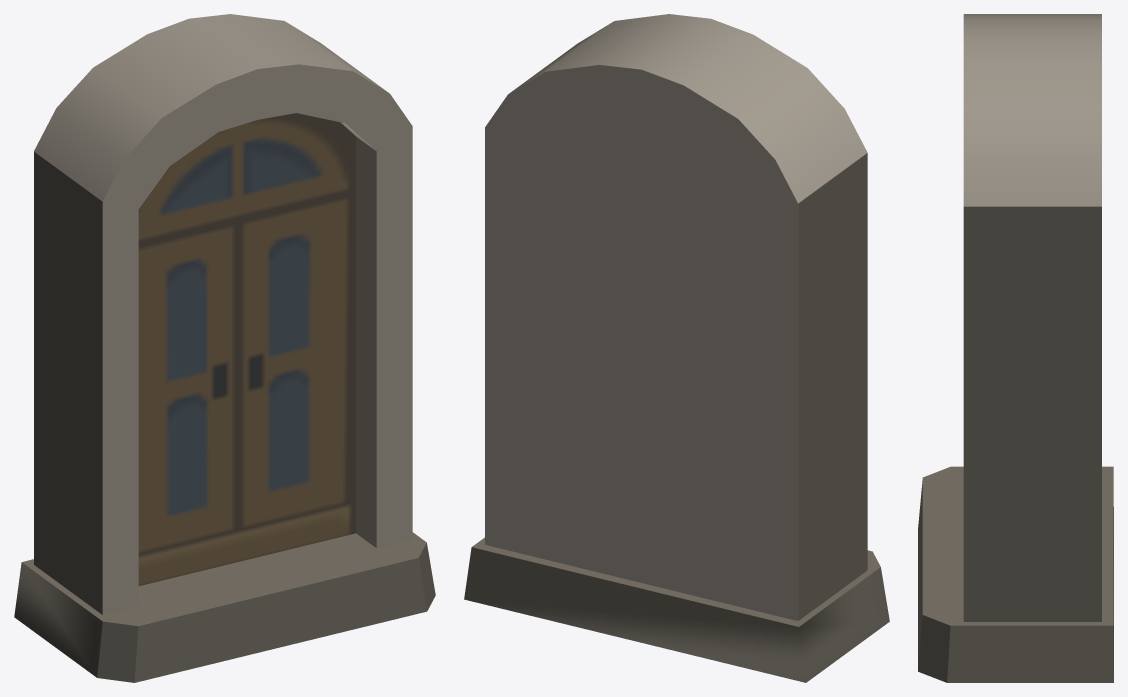
File: Door_A03.fbx
The picture shows the model from 3 angles, left to right: view 1: azimuth 30°, elevation 25°; view 2: azimuth 150°, elevation 25°; view 3: azimuth 270°, elevation 25°; orthographic projection.
Parts seen in each view (by area): view 1: Door_A03; view 2: Door_A03; view 3: Door_A03.
Part boxes in pixels (box(x1,y1,x2,y2)): Door_A03: box(14, 14, 435, 682); Door_A03: box(464, 14, 889, 682); Door_A03: box(918, 14, 1113, 682).
Bounding box in the file's own units: 227 × 359 × 113.
